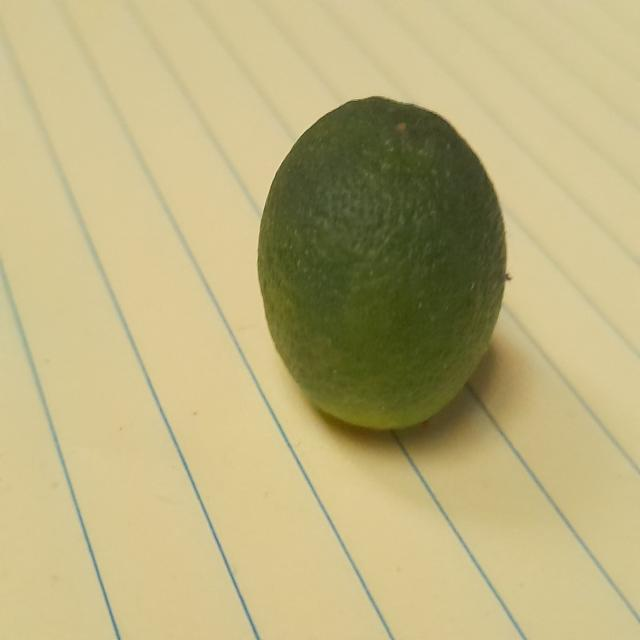heathy: (252, 97, 517, 436)
